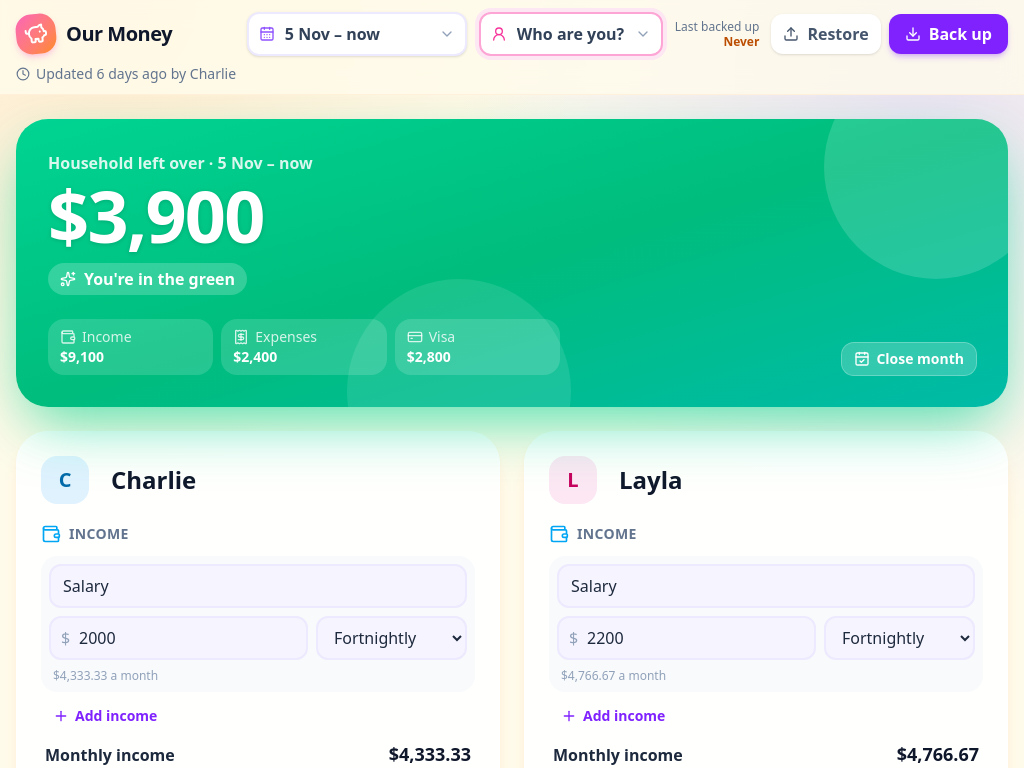
Scenario: past periods › calculates a past period from its own snapshot
Select "5 Oct – 5 Nov 2026" in the 1st dropdown named "Period": (357, 34) [247, 12, 467, 56]
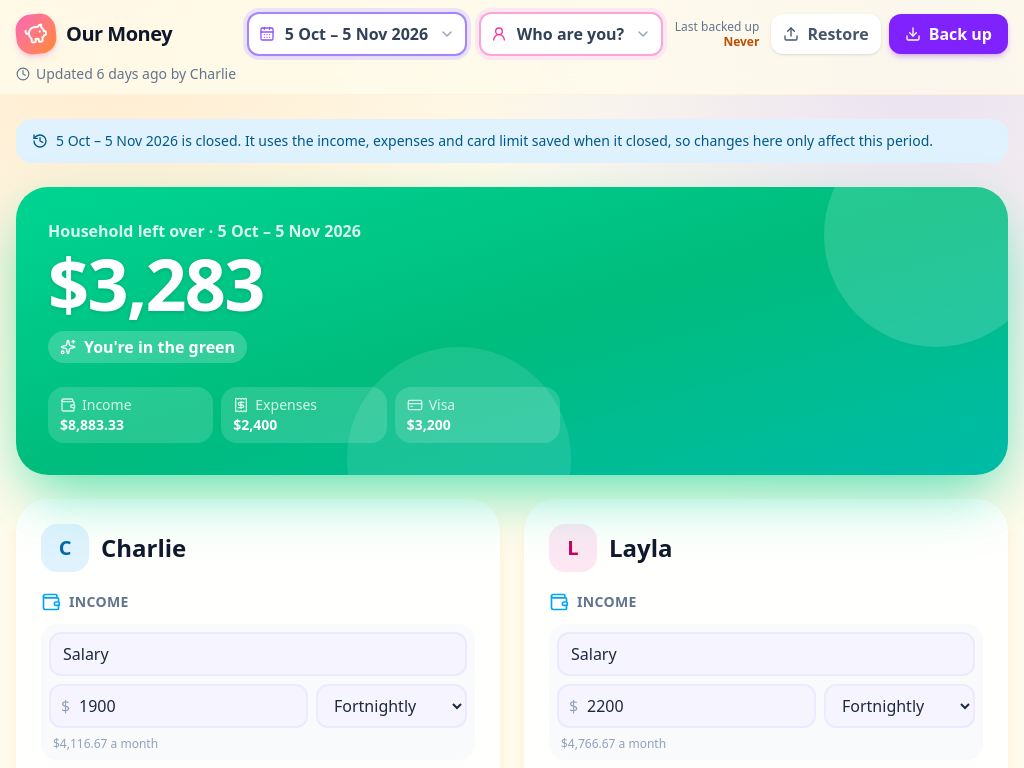
Expected: the text "5 Oct – 5 Nov 2026 is closed" is shown, [16, 119, 1008, 163]
Expected: the element named "Balance" shows "5 Oct – 5 Nov 2026", [218, 220, 361, 242]
Expected: the element named "Balance" shows "$3,283", [48, 234, 264, 332]
